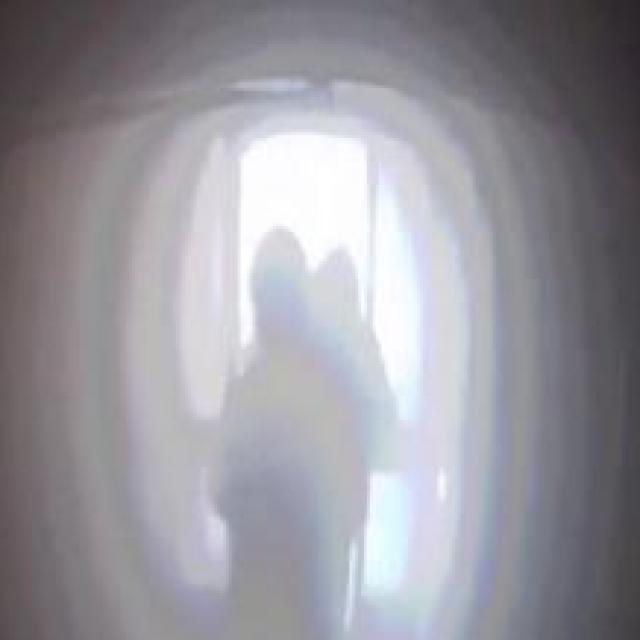fire: (68, 64, 640, 554)
